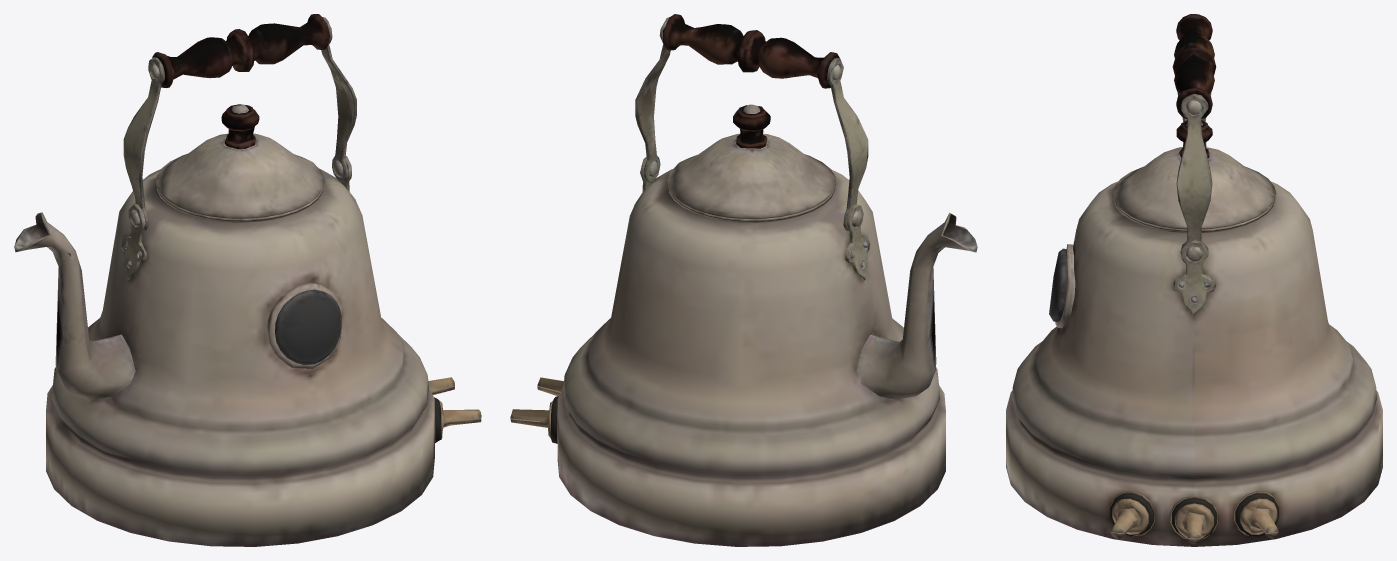
The model's file is vintage_electric_kettle.glb.
3 renders of one model, left to right at view 1: azimuth 30°, elevation 25°; view 2: azimuth 150°, elevation 25°; view 3: azimuth 270°, elevation 25°, orthographic. The views are drawn at different scales.
Parts seen in each view (by area): view 1: vintage_electric_kettle; view 2: vintage_electric_kettle; view 3: vintage_electric_kettle.
Boxes of the visible parts, x1=… form: vintage_electric_kettle: x1=14, y1=14, x2=481, y2=546; vintage_electric_kettle: x1=510, y1=14, x2=977, y2=546; vintage_electric_kettle: x1=1006, y1=14, x2=1382, y2=546.
Size of the model in its own units: 0.3209 by 0.3044 by 0.2478.
2 materials, 2 textured.
